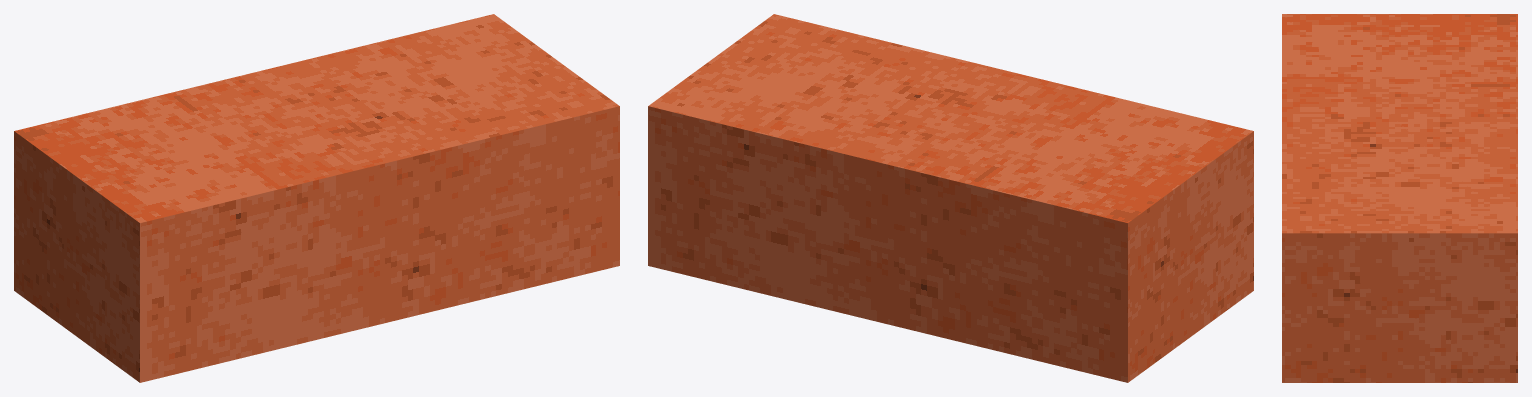
The model's file is brick.glb.
3 renders of one model, left to right at view 1: azimuth 30°, elevation 25°; view 2: azimuth 150°, elevation 25°; view 3: azimuth 270°, elevation 25°, orthographic. The views are drawn at different scales.
Parts seen in each view (by area): view 1: Brick; view 2: Brick; view 3: Brick.
Boxes of the visible parts, left/top/right/bottom form: Brick: left=14, top=14, right=619, bottom=382; Brick: left=648, top=14, right=1253, bottom=382; Brick: left=1282, top=14, right=1517, bottom=382.
Size of the model in its own units: 0.22 by 0.07 by 0.1.
1 material, 1 textured.
